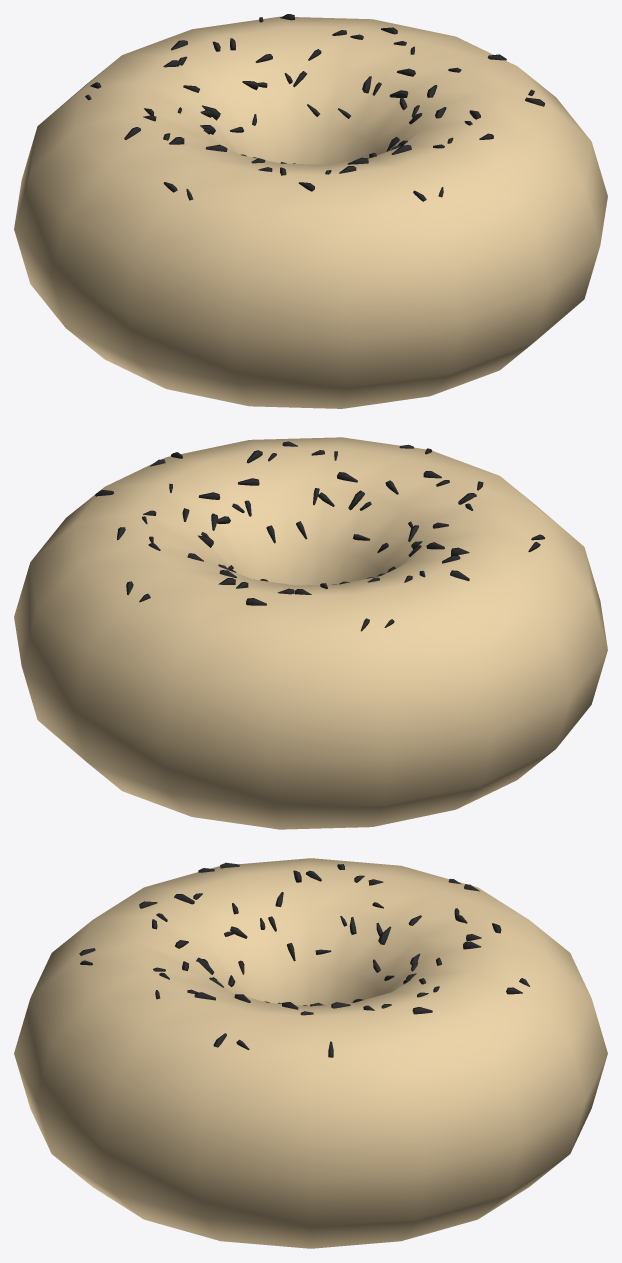
Rendered from Bagel3.fbx.
The picture shows the model from 3 angles, top to bottom: view 1: azimuth 30°, elevation 25°; view 2: azimuth 150°, elevation 25°; view 3: azimuth 270°, elevation 25°; orthographic projection.
Parts seen in each view (by area): view 1: Bagel; view 2: Bagel; view 3: Bagel.
Part boxes in pixels (bbox=[...]): Bagel: bbox=[14, 16, 607, 408]; Bagel: bbox=[14, 437, 607, 829]; Bagel: bbox=[14, 858, 607, 1248].
Bounding box in the file's own units: 122 × 50.7 × 122.
